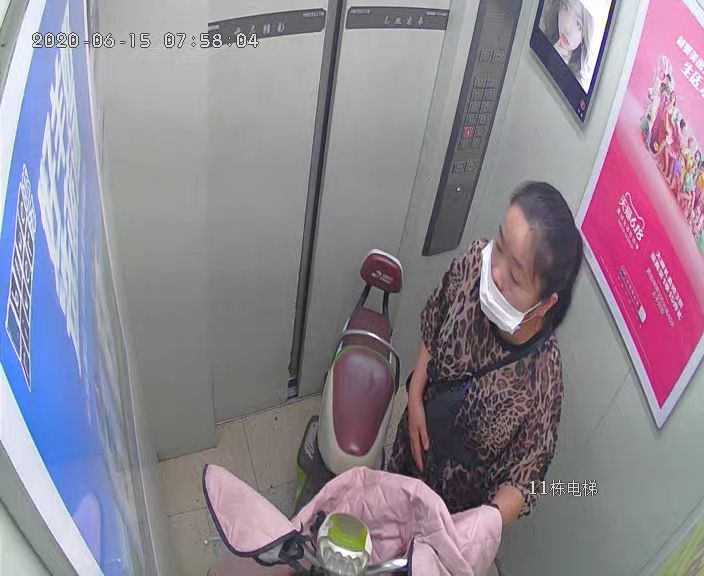Electric-bicycle: (210, 251, 504, 576)
